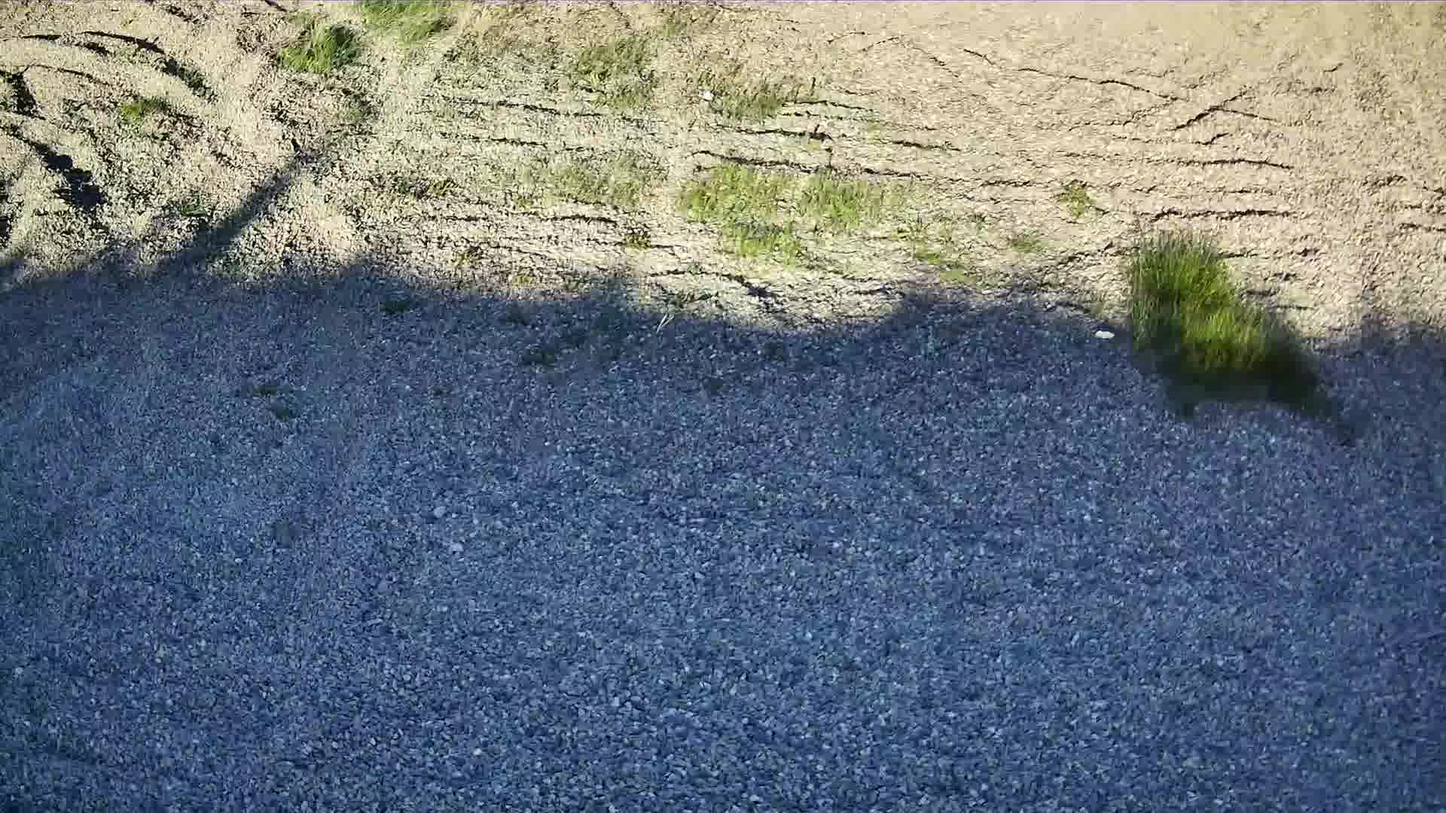Target: (1094, 329, 1116, 340)
